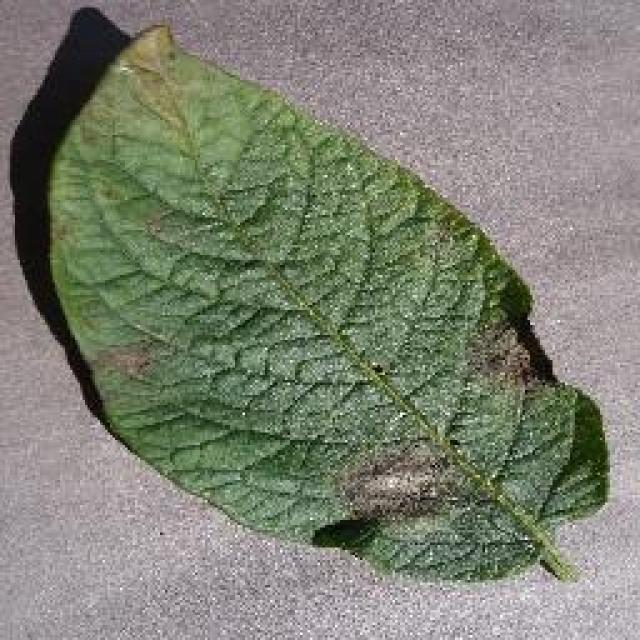late_blight: (40, 15, 612, 587)
